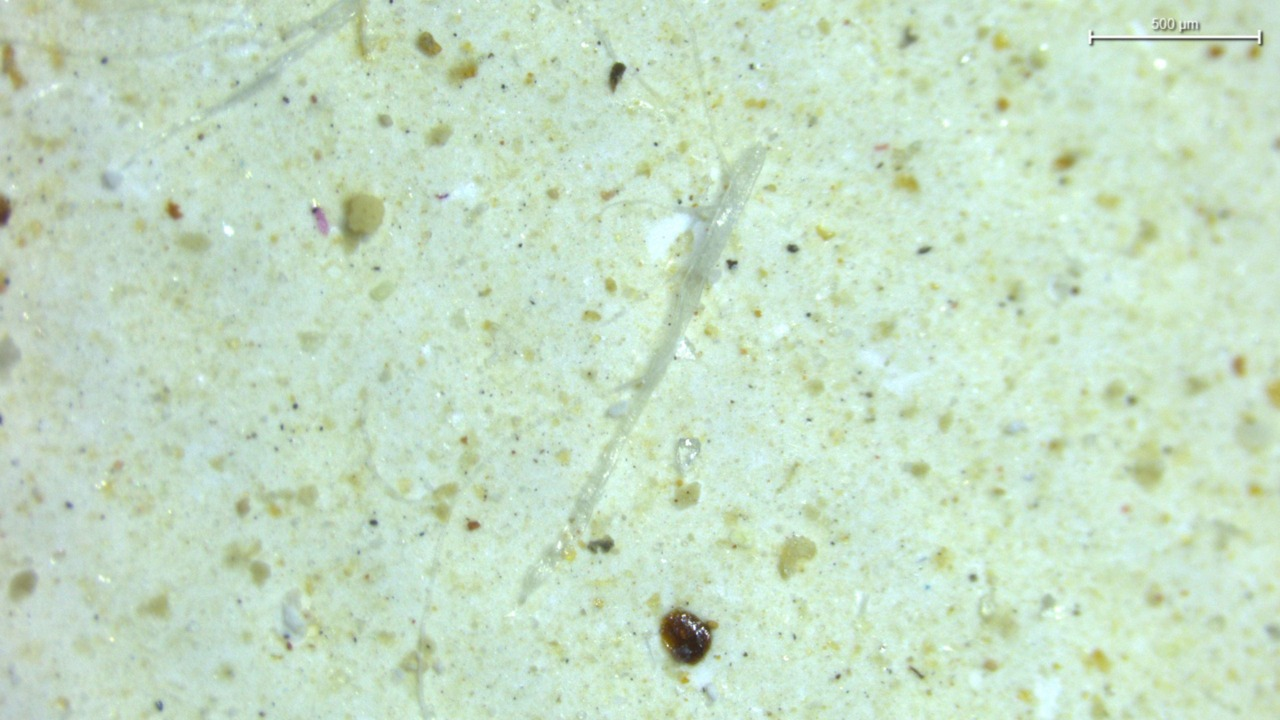microplastic_fragment: (344, 194, 384, 236)
